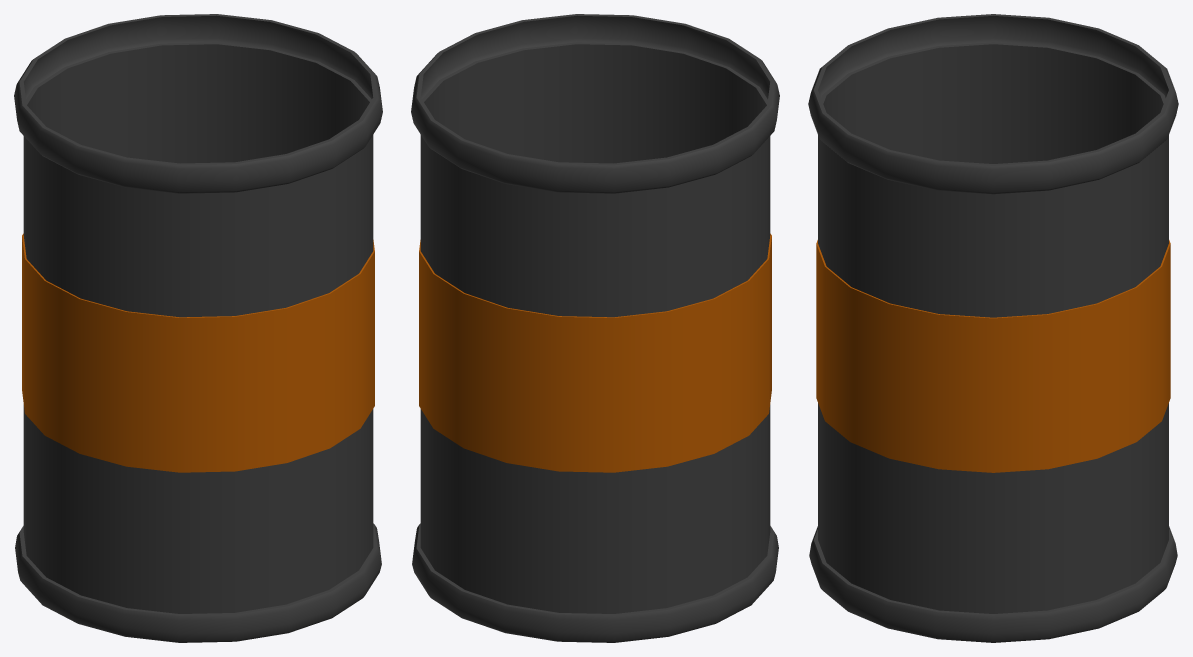
File: Barrel4.fbx
3 views of the same model, side by side, from view 1: azimuth 30°, elevation 25°; view 2: azimuth 150°, elevation 25°; view 3: azimuth 270°, elevation 25° (orthographic).
Visible parts, largest first — view 1: Barrel4; view 2: Barrel4; view 3: Barrel4.
Boxes of the visible parts, x1,y1,x2,y2 form: Barrel4: (14, 14, 382, 642); Barrel4: (411, 14, 779, 642); Barrel4: (808, 14, 1178, 642).
Bounding box in the file's own units: 169 × 240 × 169.
